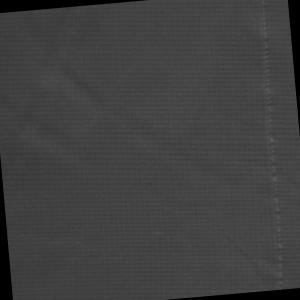Wrinkle: (1, 1, 241, 223), (207, 214, 287, 296)
